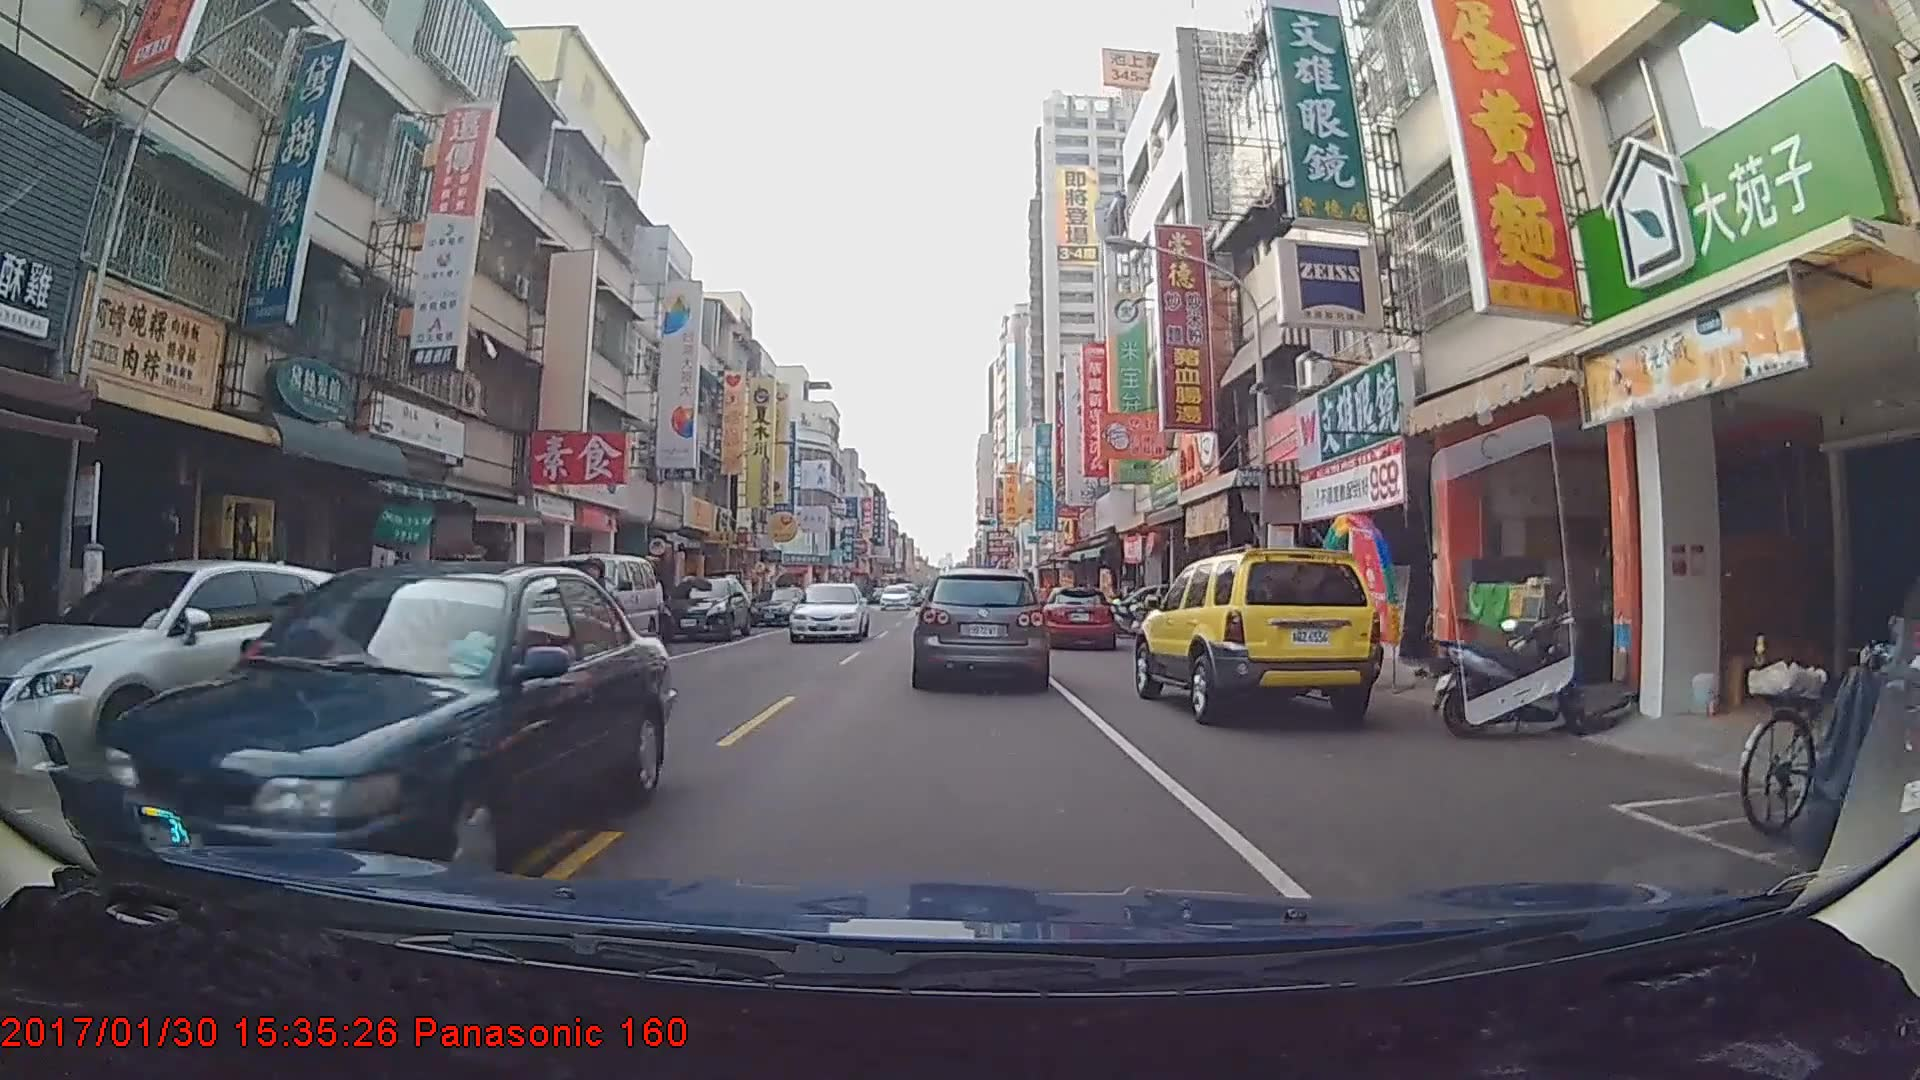vehicle: (94, 560, 670, 906), (3, 559, 382, 794), (1133, 541, 1383, 723), (915, 566, 1047, 688), (522, 553, 657, 662), (654, 575, 752, 641), (787, 580, 870, 642), (1036, 587, 1117, 650), (749, 587, 808, 628), (880, 585, 911, 611)
